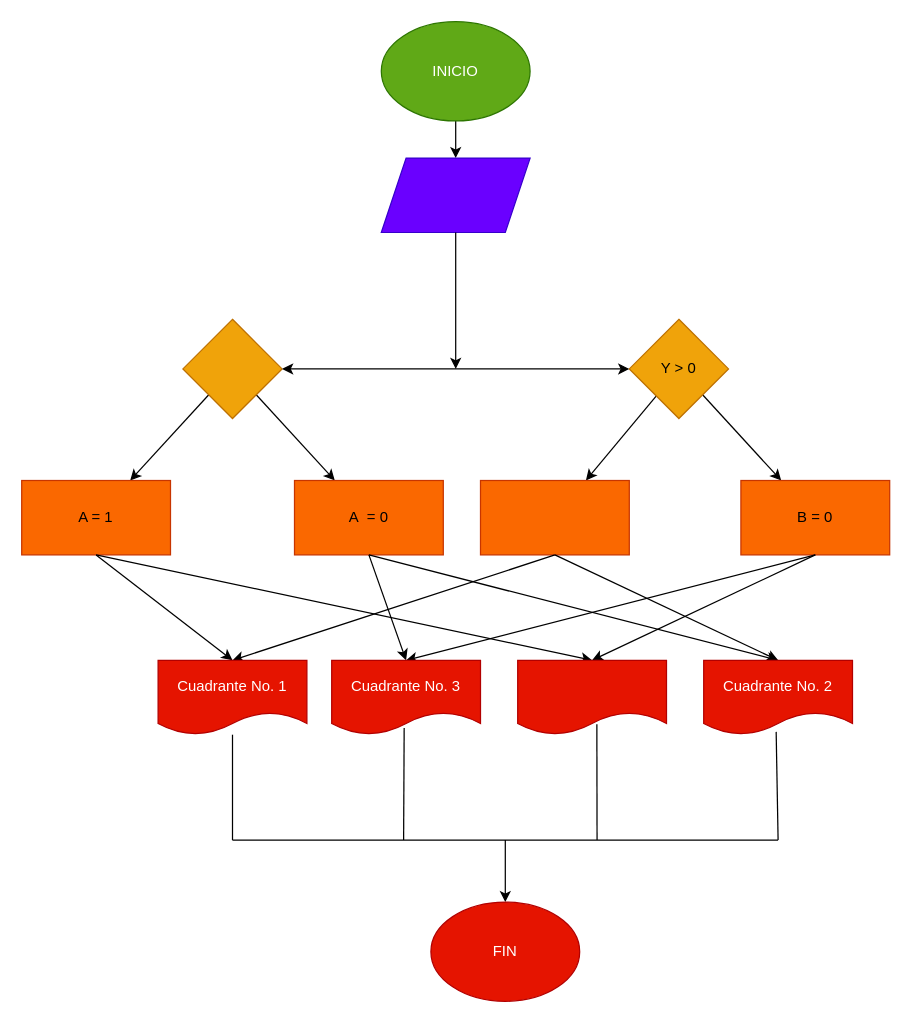
Image size: 911x1023. Some labels were removed from this diagram. Each missing label, with the box of its shape:
B = 1: (479, 479, 629, 555)
Cuadrante No. 4: (516, 659, 666, 735)
X , Y: (380, 157, 530, 232)
X > 0: (182, 318, 282, 418)
